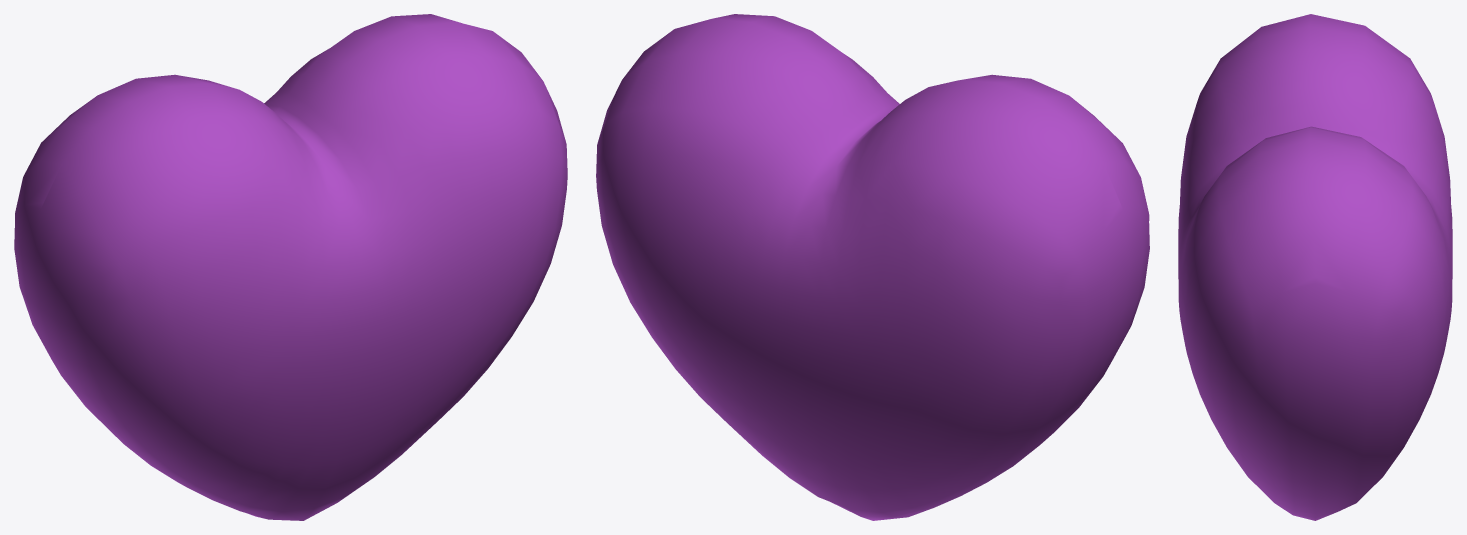
File: Heart.fbx
3 views of the same model, side by side, from view 1: azimuth 30°, elevation 25°; view 2: azimuth 150°, elevation 25°; view 3: azimuth 270°, elevation 25° (orthographic). The views are drawn at different scales.
Visible parts, largest first — view 1: Heart1; view 2: Heart1; view 3: Heart1.
Boxes of the visible parts, x1,y1,x2,y2 form: Heart1: (14, 14, 567, 520); Heart1: (596, 14, 1149, 520); Heart1: (1178, 14, 1452, 520).
Bounding box in the file's own units: 70.13 × 60.98 × 34.95.
